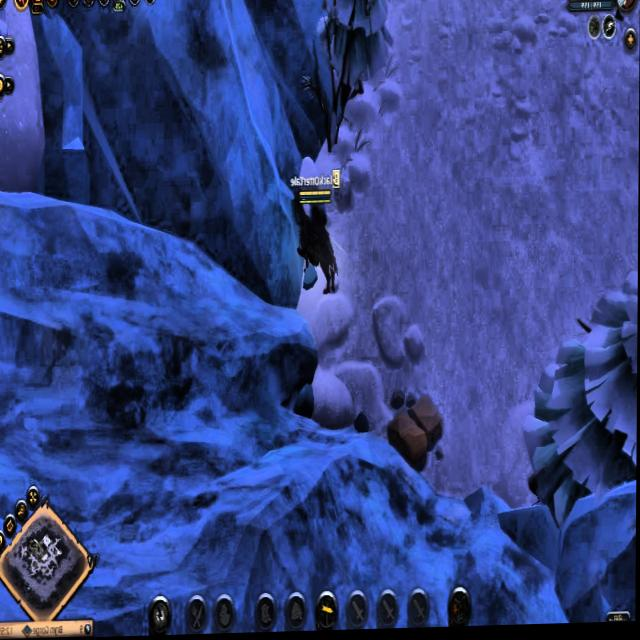limestone: (387, 392, 447, 471)
